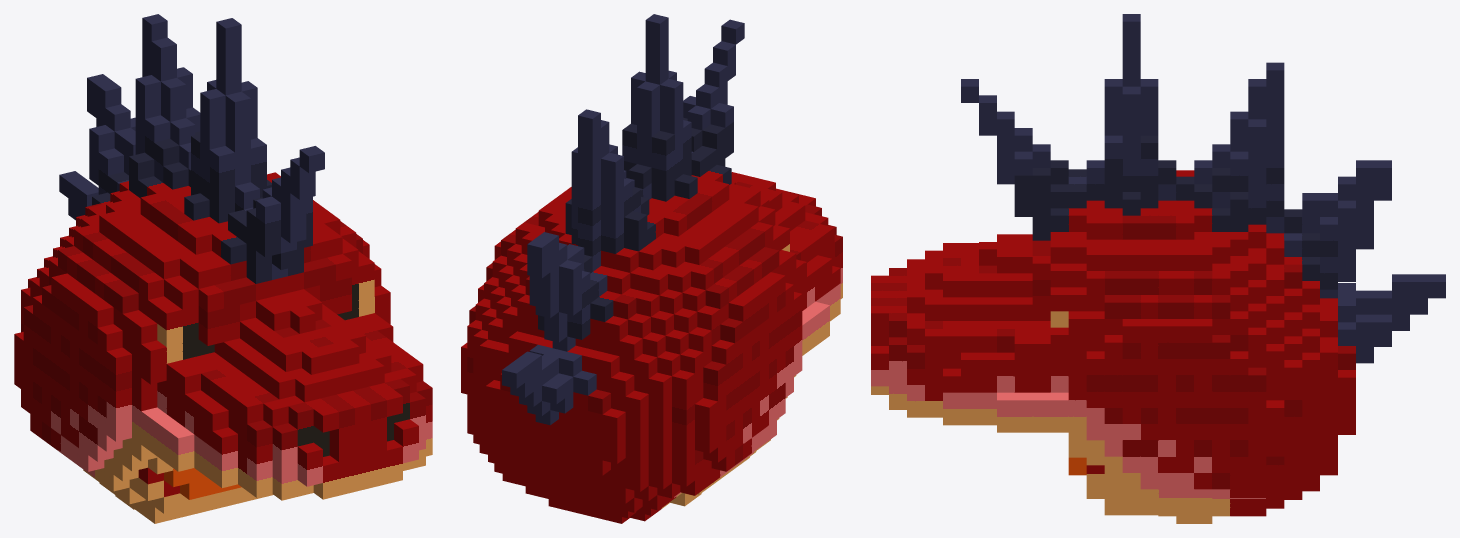
The model's file is black mohawk.gltf.
3 views of the same model, side by side, from view 1: azimuth 30°, elevation 25°; view 2: azimuth 150°, elevation 25°; view 3: azimuth 270°, elevation 25° (orthographic). The views are drawn at different scales.
Parts seen in each view (by area): view 1: 02_Zilla_Head_BlackMohawk-Mesh; view 2: 02_Zilla_Head_BlackMohawk-Mesh; view 3: 02_Zilla_Head_BlackMohawk-Mesh.
Part boxes in pixels (x1,y1,x2,y2): 02_Zilla_Head_BlackMohawk-Mesh: (14, 14, 432, 523); 02_Zilla_Head_BlackMohawk-Mesh: (461, 14, 842, 523); 02_Zilla_Head_BlackMohawk-Mesh: (871, 14, 1445, 523).
Bounding box in the file's own units: 17 × 29 × 32.
1 material, 1 textured.
